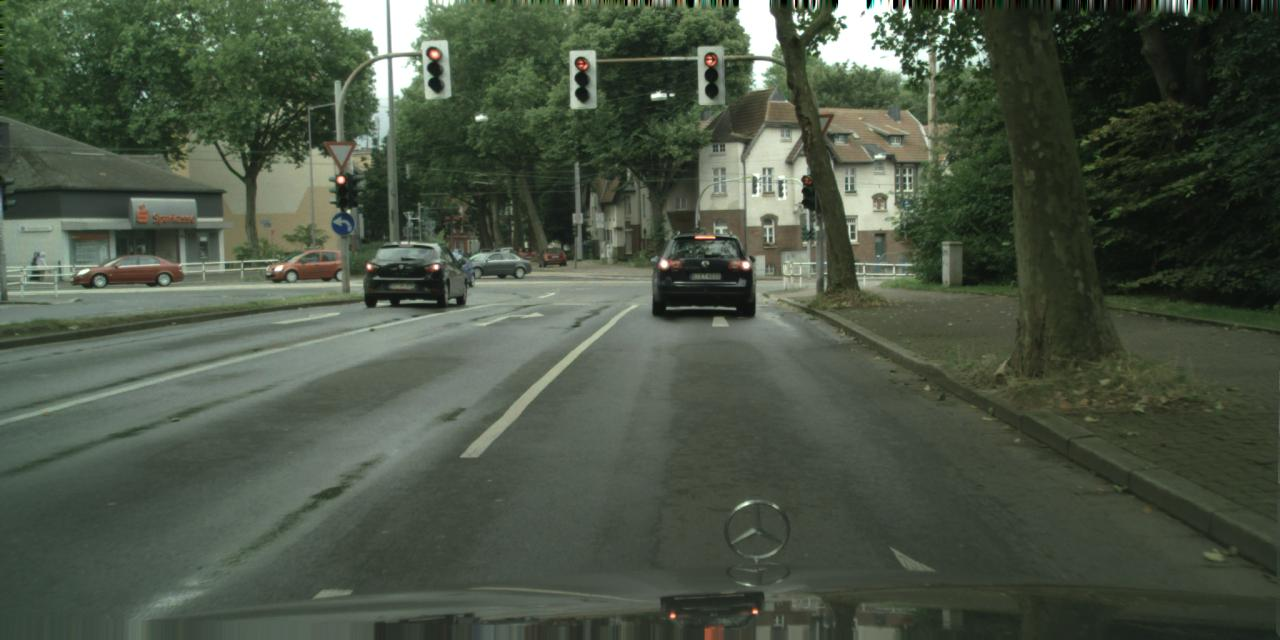ped: (34, 251, 49, 286), (28, 251, 42, 286)
